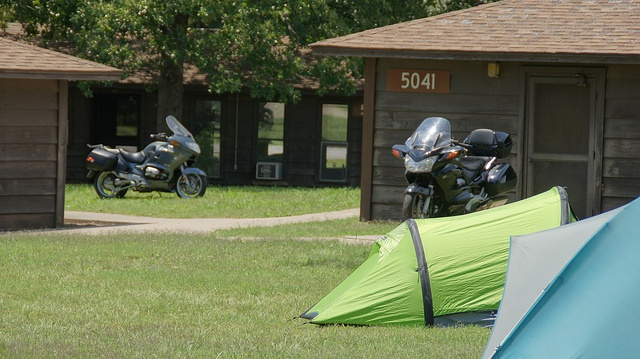non-vehicle: (391, 117, 517, 218), (82, 114, 208, 199)
